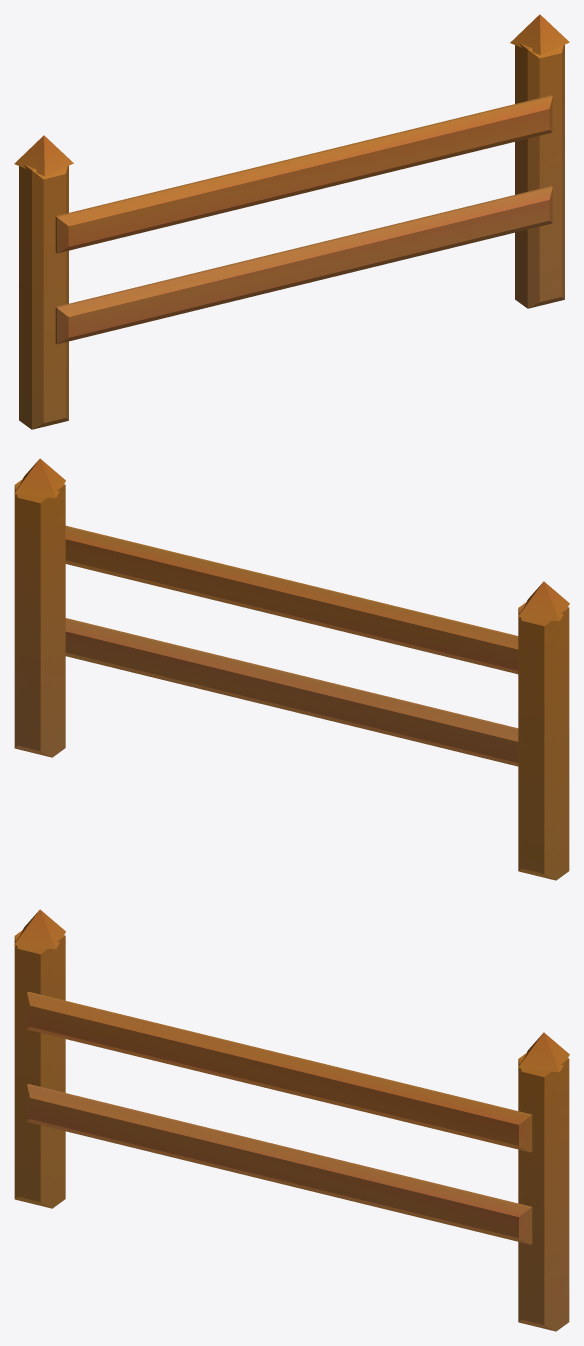
The model's file is Prop_Fence_2m.glb.
The picture shows the model from 3 angles, top to bottom: view 1: azimuth 30°, elevation 25°; view 2: azimuth 150°, elevation 25°; view 3: azimuth 330°, elevation 25°; orthographic projection.
Parts seen in each view (by area): view 1: Prop_Fence_2m; view 2: Prop_Fence_2m; view 3: Prop_Fence_2m.
Boxes of the visible parts, left/top/right/bottom form: Prop_Fence_2m: left=14, top=14, right=569, bottom=429; Prop_Fence_2m: left=14, top=458, right=569, bottom=880; Prop_Fence_2m: left=14, top=909, right=569, bottom=1331.
Bounding box in the file's own units: 2.18 × 1.1 × 0.2121.
